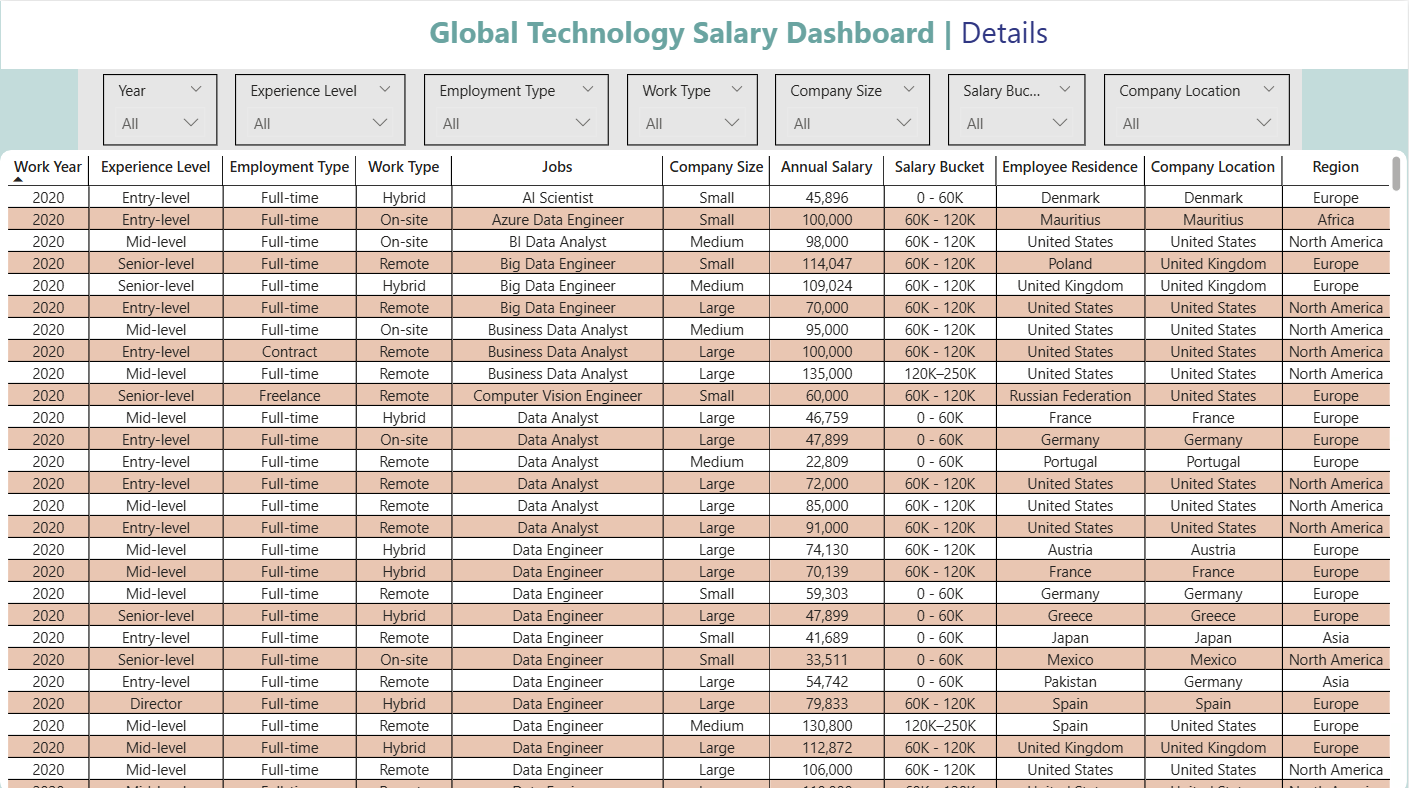

What the dashboard file says about the page in this screenshot:
{"tool":"powerbi","page":{"name":"Details","canvas":[1280,720],"ordinal":4},"visuals":[{"type":"shape","box":[0.9,0,1279.1,61.8],"z":0},{"type":"shape","box":[0,135.5,1279.1,584.5],"z":1000},{"type":"shape","box":[70.9,61.8,1112.7,73.6],"z":2000},{"type":"slicer","fields":{"Values":["global_tech_salary.Work_Year"]},"box":[93.6,66.4,103.6,65.5],"z":3000},{"type":"slicer","fields":{"Values":["global_tech_salary.Experience_Level"]},"box":[213.5,66.4,155.5,65.5],"z":4000},{"type":"slicer","fields":{"Values":["global_tech_salary.Employment_Type"]},"box":[385.2,66.4,168.2,65.5],"z":5000},{"type":"slicer","fields":{"Values":["global_tech_salary.Work_Type"]},"box":[569.5,66.4,119.1,65.5],"z":6000},{"type":"slicer","fields":{"Values":["global_tech_salary.Company_Size"]},"box":[704.8,66.4,140.9,65.5],"z":7000},{"type":"slicer","fields":{"Values":["global_tech_salary.Salary_Bucket"]},"box":[862,66.4,125.5,65.5],"z":7001},{"type":"slicer","fields":{"Values":["global_tech_salary.Company_Location"]},"box":[1003.6,66.4,169.1,65.5],"z":7002},{"type":"textbox","box":[385.5,4.5,588.2,52.7],"z":7003},{"type":"tableEx","fields":{"Values":["global_tech_salary.Work_Year","global_tech_salary.Experience_Level","global_tech_salary.Employment_Type","global_tech_salary.Work_Type","global_tech_salary.Jobs","global_tech_salary.Company_Size","global_tech_salary.Annual_Salary","global_tech_salary.Salary_Bucket","global_tech_salary.Employee_Residence","global_tech_salary.Company_Location","global_tech_salary.Region"]},"box":[0.9,135.5,1278.2,584.5],"z":7004}]}

Visuals, with their boxes in screenshot pixels (x1, y1, x2, y2), scaled from the page's 1280x720 canvas onto the 1409x788 screenshot:
shape: <box>1,0,1408,68</box>
shape: <box>0,148,1408,787</box>
shape: <box>78,68,1303,148</box>
slicer - global_tech_salary.Work_Year: <box>103,73,217,144</box>
slicer - global_tech_salary.Experience_Level: <box>235,73,406,144</box>
slicer - global_tech_salary.Employment_Type: <box>424,73,609,144</box>
slicer - global_tech_salary.Work_Type: <box>627,73,758,144</box>
slicer - global_tech_salary.Company_Size: <box>776,73,931,144</box>
slicer - global_tech_salary.Salary_Bucket: <box>949,73,1087,144</box>
slicer - global_tech_salary.Company_Location: <box>1105,73,1291,144</box>
textbox: <box>424,5,1072,63</box>
tableEx - global_tech_salary.Work_Year x global_tech_salary.Experience_Level: <box>1,148,1408,787</box>
